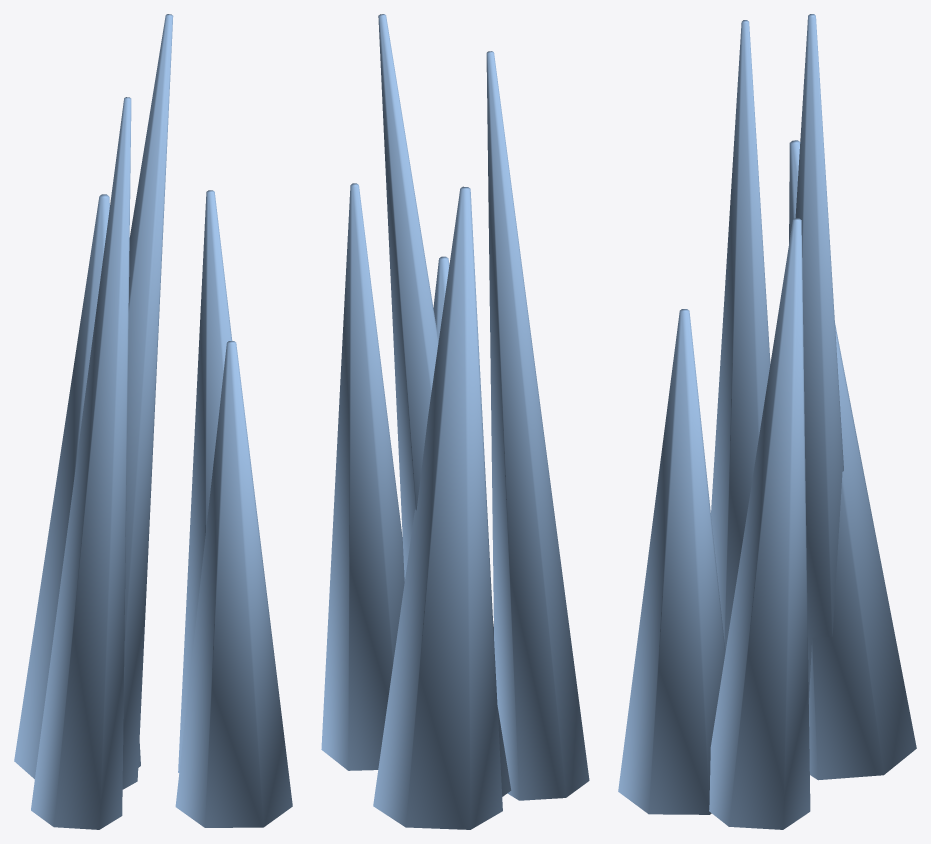
The model's file is resource_crystal_1.glb.
3 renders of one model, left to right at view 1: azimuth 30°, elevation 25°; view 2: azimuth 150°, elevation 25°; view 3: azimuth 270°, elevation 25°, orthographic. The views are drawn at different scales.
Parts seen in each view (by area): view 1: resource_crystal_1; view 2: resource_crystal_1; view 3: resource_crystal_1.
Part boxes in pixels (x1=…): resource_crystal_1: x1=14, y1=14, x2=292, y2=829; resource_crystal_1: x1=321, y1=14, x2=589, y2=829; resource_crystal_1: x1=618, y1=14, x2=916, y2=829.
Size of the model in its own units: 0.7058 by 2.17 by 0.7541.
